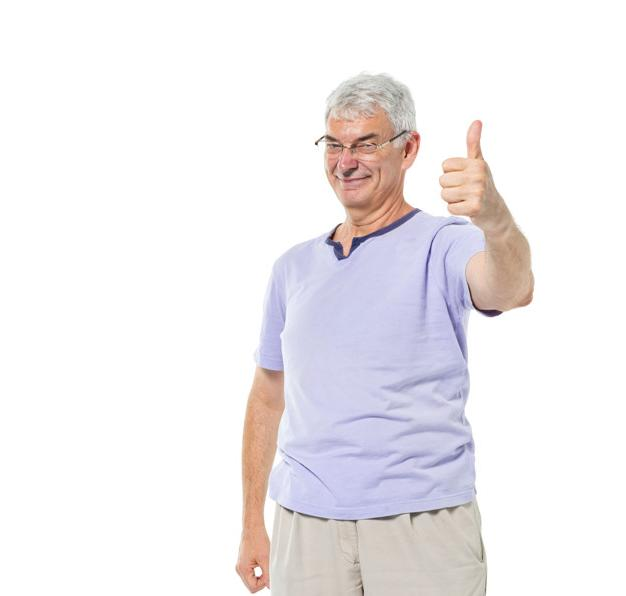thumbsup: (439, 120, 488, 215)
